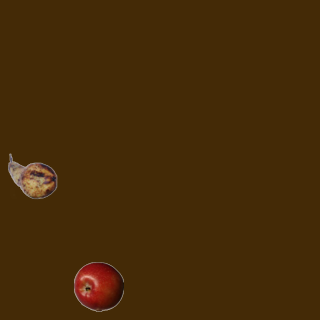Apple Braeburn: (73, 261, 123, 311)
Pear Abate: (7, 151, 57, 201)
